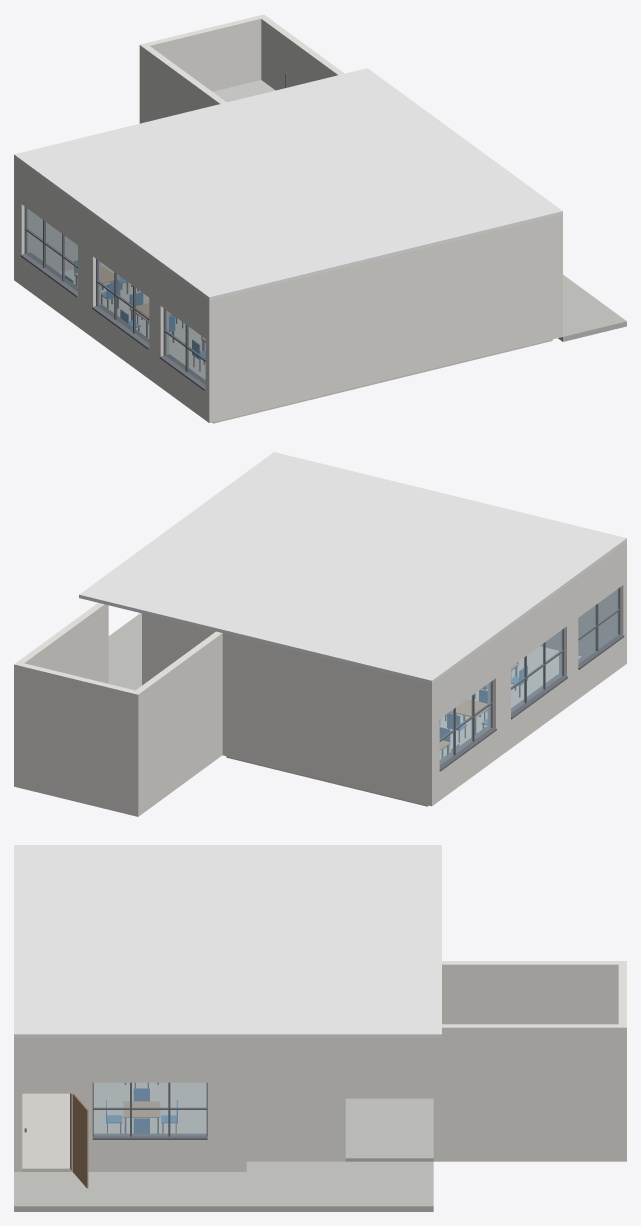
Rendered from hobby_class.glb.
3 views of the same model, one above another, from view 1: azimuth 30°, elevation 25°; view 2: azimuth 150°, elevation 25°; view 3: azimuth 270°, elevation 25° (orthographic). The views are drawn at different scales.
Parts seen in each view (by area): view 1: Ceiling, W_South_pier0, W_StairNorth_pier0, W_StairWest_pier0, W_StairEast_pier0, Floor_HobbyClass, Floor_Passage, W_West_lintel3, W_West_lintel1, EW6_2_pane, EW6_1_pane, W_West_pier2 (+12 smaller); view 2: Ceiling, W_North_pier0, W_StairNorth_pier0, W_StairWest_pier0, W_StairEast_pier0, W_LobbySouth_pier0, Floor_HobbyClass, W_West_lintel1, W_West_lintel3, EW6_1_pane, EW6_2_pane, W_West_pier2 (+12 smaller); view 3: Ceiling, W_StairEast_pier0, Floor_Passage, W_EastUpper_pier0, W_StairWest_pier0, Floor_HobbyClass, EW1_pane, Floor_StairLobby, W_Partition_pier0, W_EastLower_lintel1, W_EastLower_pier0, W_EastLower_sill1 (+9 smaller).
Part boxes in pixels (<box>): Ceiling: <box>14,68,562,300</box>; W_South_pier0: <box>209,215,562,422</box>; W_StairNorth_pier0: <box>139,14,267,123</box>; W_StairWest_pier0: <box>143,46,226,122</box>; W_StairEast_pier0: <box>261,17,344,90</box>; Floor_HobbyClass: <box>59,263,552,423</box>; Floor_Passage: <box>558,275,626,341</box>; W_West_lintel3: <box>93,216,149,297</box>; W_West_lintel1: <box>21,164,77,244</box>; EW6_2_pane: <box>97,260,149,343</box>; EW6_1_pane: <box>26,208,77,291</box>; W_West_pier2: <box>78,205,100,337</box>; Ceiling: <box>79,452,626,683</box>; W_North_pier0: <box>222,633,435,805</box>; W_StairNorth_pier0: <box>14,662,141,816</box>; W_StairWest_pier0: <box>136,631,222,813</box>; W_StairEast_pier0: <box>18,603,108,683</box>; W_LobbySouth_pier0: <box>142,613,215,685</box>; Floor_HobbyClass: <box>226,646,581,806</box>; W_West_lintel1: <box>439,637,495,718</box>; W_West_lintel3: <box>511,585,566,666</box>; EW6_1_pane: <box>439,682,491,764</box>; EW6_2_pane: <box>511,629,562,712</box>; W_West_pier2: <box>487,626,510,759</box>; Ceiling: <box>14,845,441,1037</box>; W_StairEast_pier0: <box>433,1024,618,1161</box>; Floor_Passage: <box>14,1161,433,1211</box>; W_EastUpper_pier0: <box>246,1038,345,1161</box>; W_StairWest_pier0: <box>442,961,618,1024</box>; Floor_HobbyClass: <box>22,1082,206,1171</box>; EW1_pane: <box>93,1082,206,1135</box>; Floor_StairLobby: <box>345,1098,433,1161</box>; W_Partition_pier0: <box>345,1038,433,1098</box>; W_EastLower_lintel1: <box>92,1038,207,1082</box>; W_EastLower_pier0: <box>207,1038,246,1171</box>; W_EastLower_sill1: <box>92,1140,207,1171</box>.
Size of the model in its own units: 12.88 by 3.85 by 14.91.
